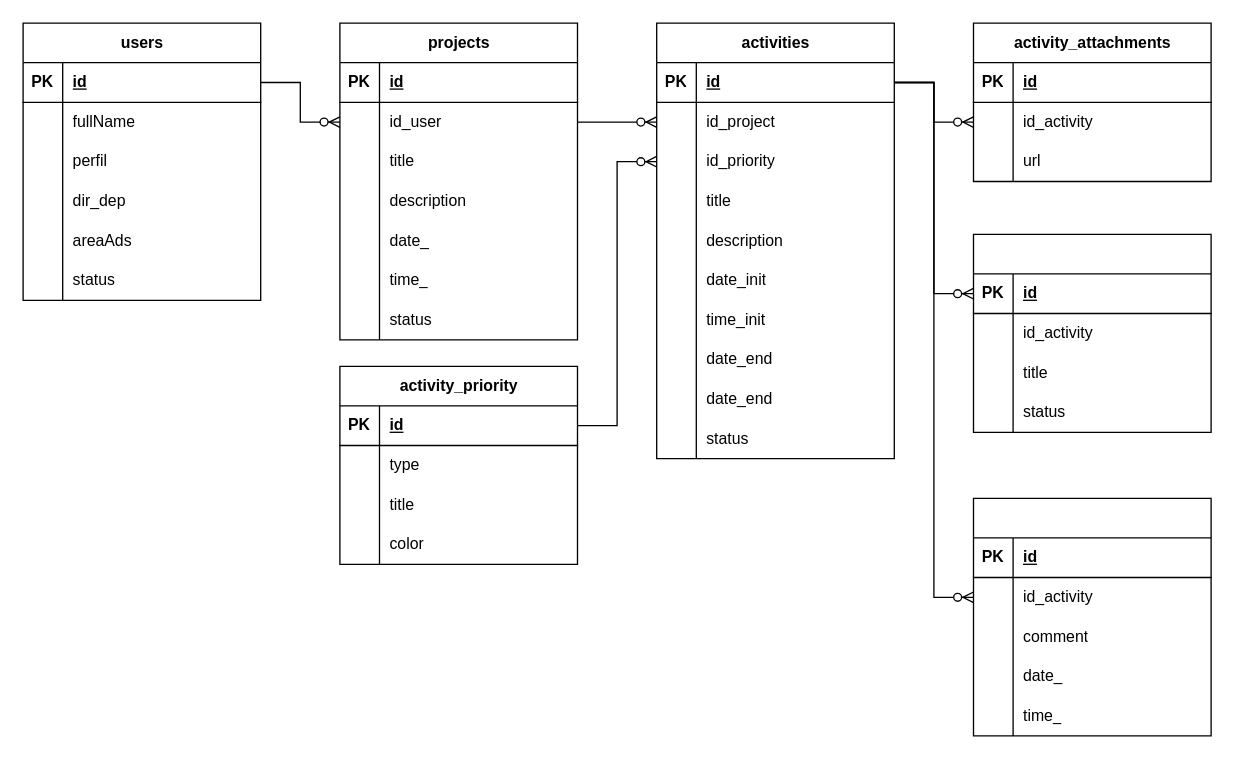
Some shapes in this 1234 by 759 pixel diagram are drawn without their labels. Each missing label, with the box of its shape:
activity_comments: (972, 497, 1211, 736)
activity_tasks: (972, 233, 1211, 432)
